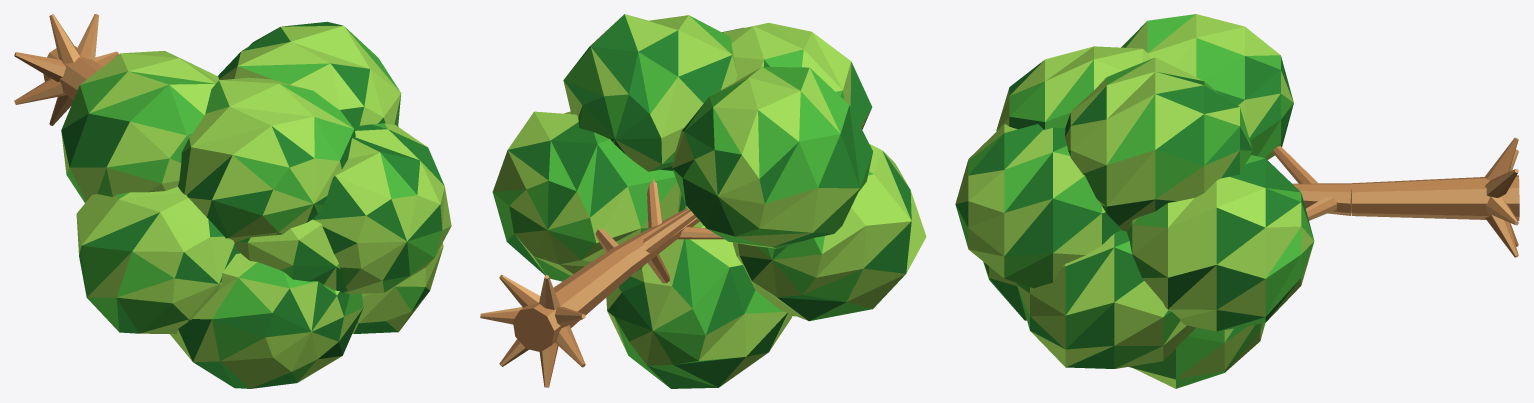
The model's file is background_tree.obj.
The picture shows the model from 3 angles, left to right: view 1: azimuth 30°, elevation 25°; view 2: azimuth 150°, elevation 25°; view 3: azimuth 270°, elevation 25°; orthographic projection. The views are drawn at different scales.
Parts seen in each view (by area): view 1: Tree; view 2: Tree; view 3: Tree.
Boxes of the visible parts, <box> form: Tree: <box>14,14,451,388</box>; Tree: <box>480,14,926,388</box>; Tree: <box>955,14,1519,388</box>.
Size of the model in its own units: 4.23 by 3.86 by 6.07.
5 materials, 5 textured.
